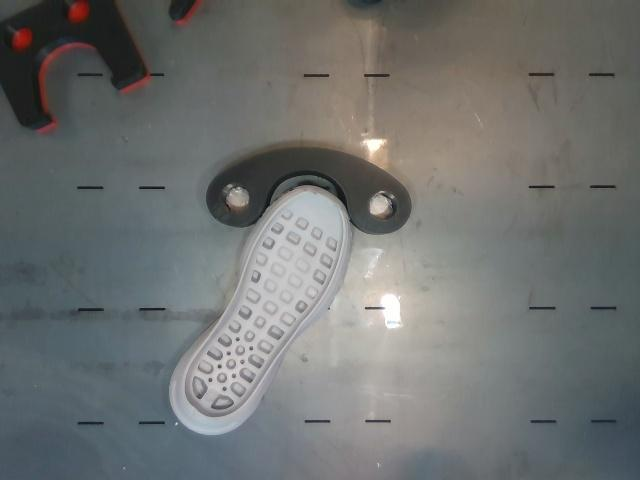shoes: (185, 191, 344, 417)
